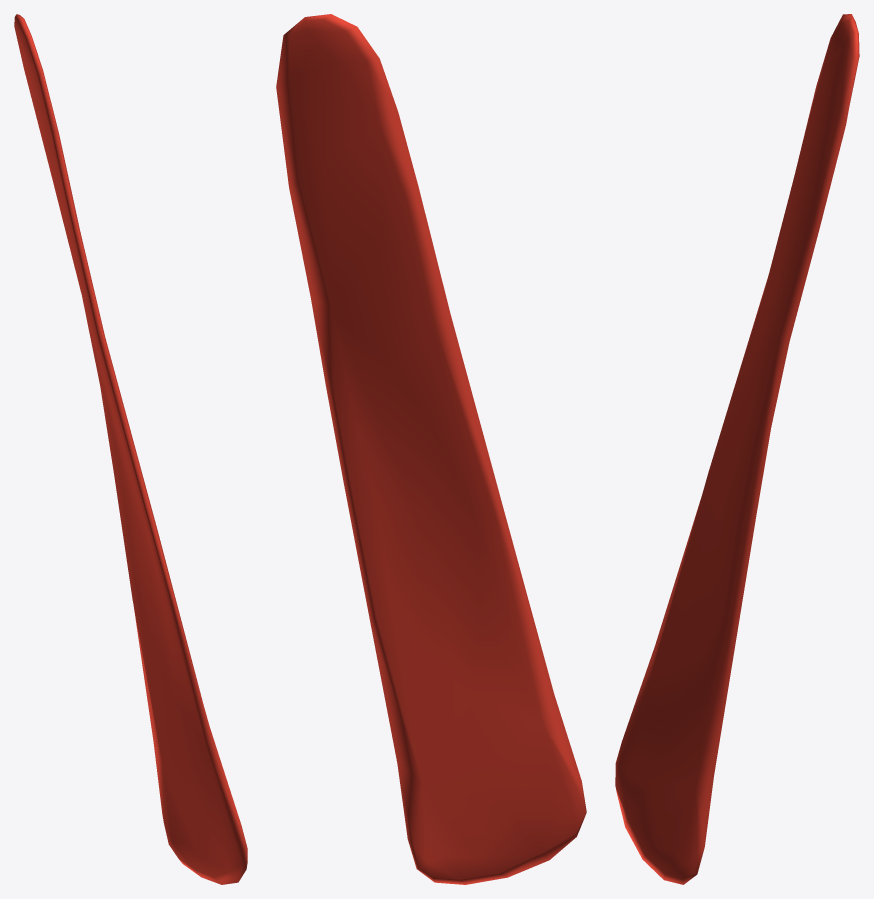
File: Pronator_quadratus-Ulnar_insertion.r_Generated_Mesh_From_X3D.61.glb
The picture shows the model from 3 angles, left to right: view 1: azimuth 90°, elevation 25°; view 2: azimuth 150°, elevation 25°; view 3: azimuth 270°, elevation 25°; orthographic projection. The views are drawn at different scales.
Parts seen in each view (by area): view 1: Pronator_quadratus-Ulnar_insertion.r_Generated_Mesh_From_X3D; view 2: Pronator_quadratus-Ulnar_insertion.r_Generated_Mesh_From_X3D; view 3: Pronator_quadratus-Ulnar_insertion.r_Generated_Mesh_From_X3D.
Part boxes in pixels (x1,y1,x2,y2): Pronator_quadratus-Ulnar_insertion.r_Generated_Mesh_From_X3D: [14, 14, 247, 884]; Pronator_quadratus-Ulnar_insertion.r_Generated_Mesh_From_X3D: [276, 14, 586, 884]; Pronator_quadratus-Ulnar_insertion.r_Generated_Mesh_From_X3D: [615, 14, 859, 884].
Size of the model in its own units: 0.00923 by 0.0432 by 0.0108.
